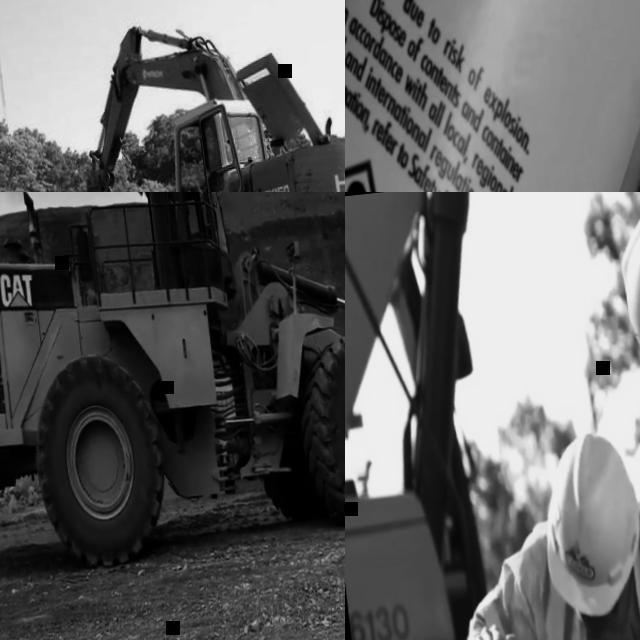helmet: (533, 429, 640, 621), (613, 192, 640, 394)
vest: (460, 492, 640, 640)
